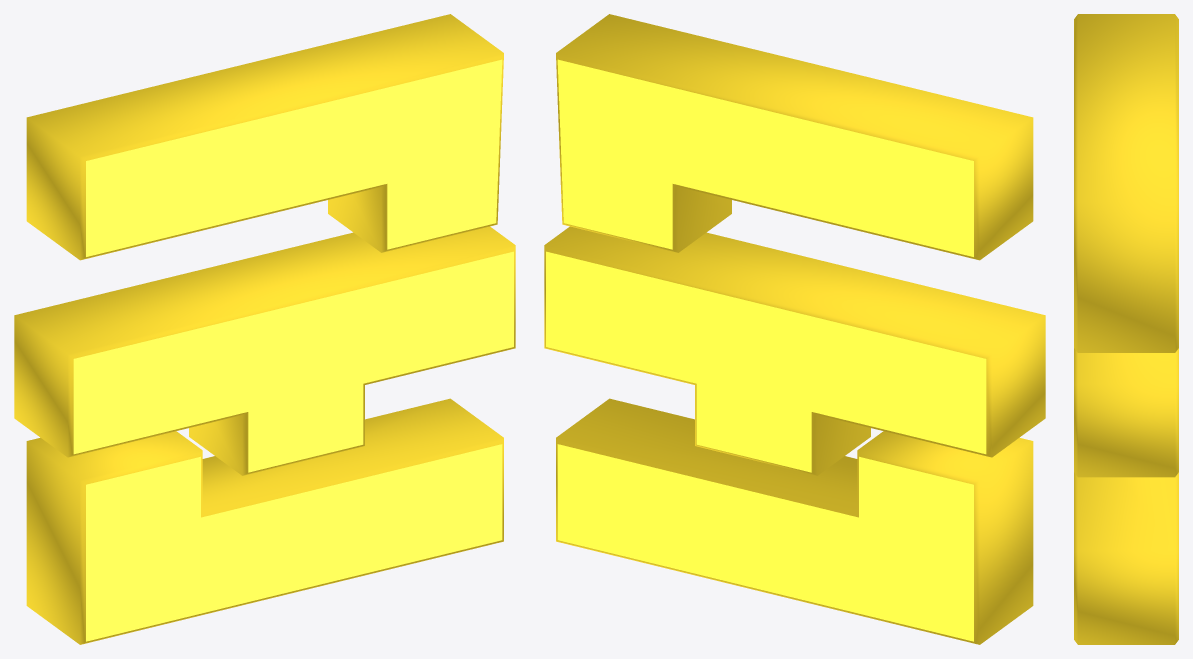
The picture shows the model from 3 angles, left to right: view 1: azimuth 30°, elevation 25°; view 2: azimuth 150°, elevation 25°; view 3: azimuth 270°, elevation 25°; orthographic projection. The views are drawn at different scales.
Parts seen in each view (by area): view 1: glyph; view 2: glyph; view 3: glyph.
Boxes of the visible parts, <box> form: glyph: <box>14,14,515,644</box>; glyph: <box>544,14,1045,644</box>; glyph: <box>1074,14,1178,644</box>.
Bounding box in the file's own units: 0.0725 × 0.0756 × 0.0162.
